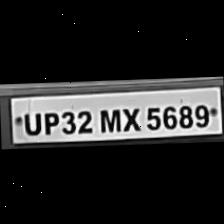2: (72, 104, 94, 134)
3: (58, 104, 76, 132)
5: (142, 100, 162, 128)
6: (160, 100, 178, 128)
8: (175, 100, 193, 128)
9: (190, 98, 210, 125)
M: (95, 103, 119, 131)
P: (39, 106, 59, 134)
U: (20, 107, 41, 134)
X: (118, 102, 140, 131)
